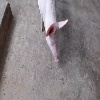heo: (41, 18, 73, 65)
